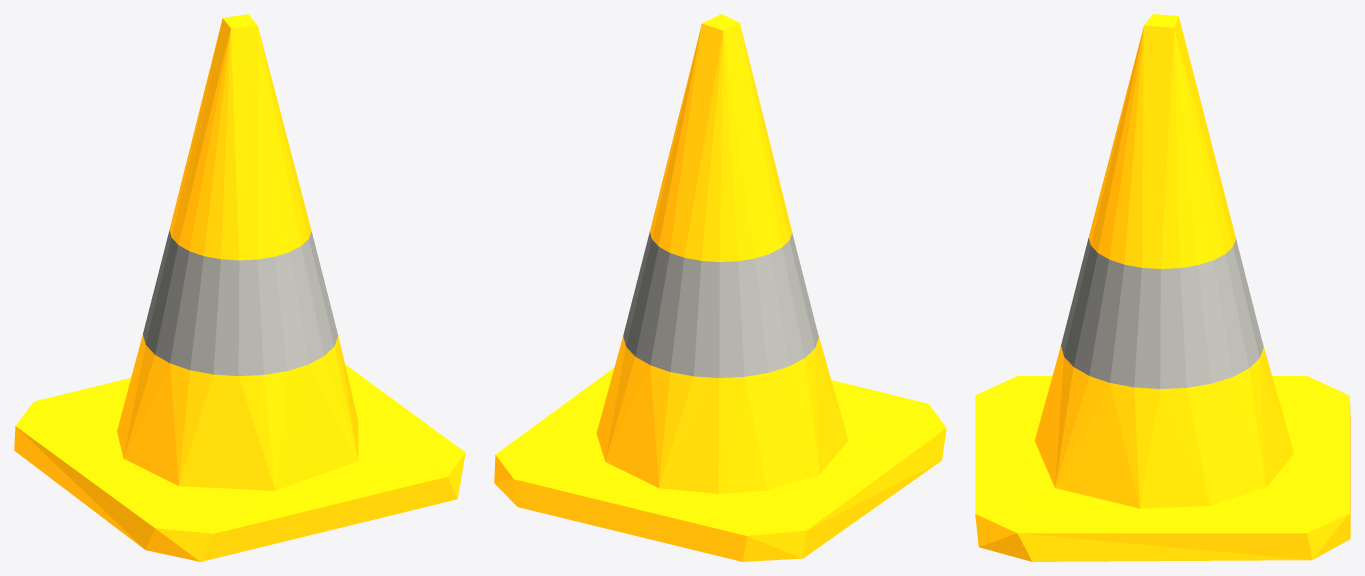
Rendered from cone_orange.dae.
3 renders of one model, left to right at view 1: azimuth 30°, elevation 25°; view 2: azimuth 150°, elevation 25°; view 3: azimuth 270°, elevation 25°, orthographic. The views are drawn at different scales.
Parts seen in each view (by area): view 1: node; view 2: node; view 3: node.
Part boxes in pixels (box(x1,y1,x2,y2)): node: box(14, 14, 465, 561); node: box(494, 14, 946, 561); node: box(975, 14, 1350, 561).
Size of the model in its own units: 0.2254 by 0.224 by 0.3034.
